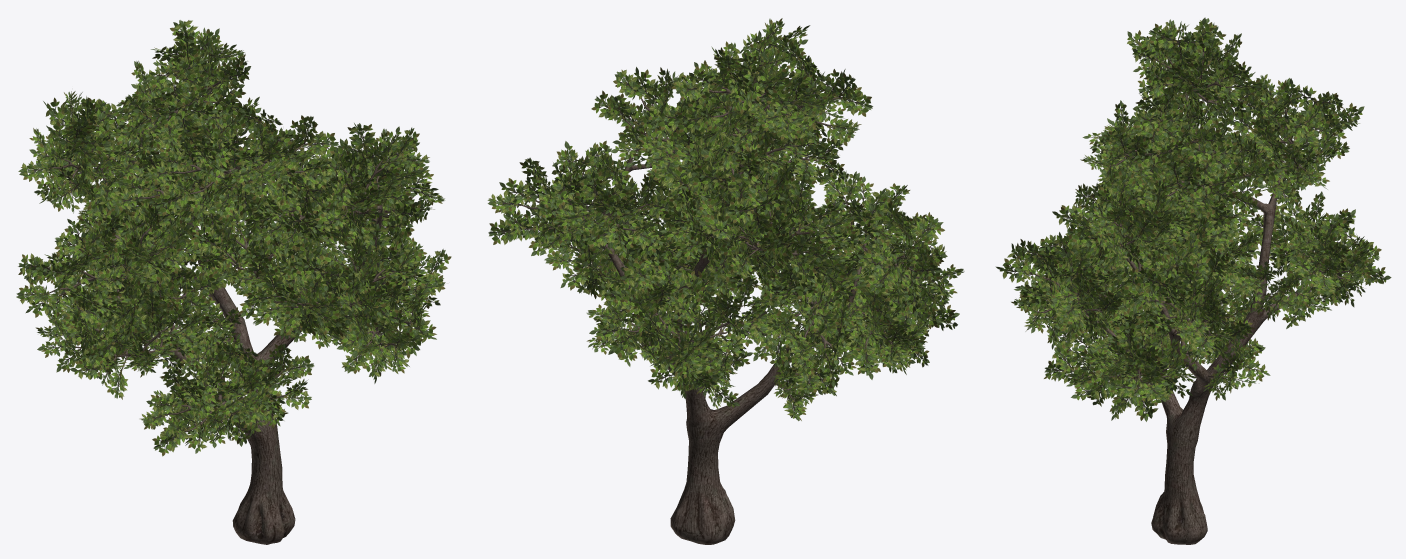
Rendered from tree.glb.
3 views of the same model, side by side, from view 1: azimuth 30°, elevation 25°; view 2: azimuth 150°, elevation 25°; view 3: azimuth 270°, elevation 25° (orthographic). The views are drawn at different scales.
Visible parts, largest first — view 1: crown merged, trunk_low, br_low; view 2: crown merged, trunk_low, br_low; view 3: crown merged, trunk_low, br_low.
Part boxes in pixels (x1,y1,x2,y2): crown merged: (16,20,451,456); trunk_low: (91,109,382,544); br_low: (47,64,414,432); crown merged: (487,18,964,420); trunk_low: (594,97,869,544); br_low: (521,54,932,400); crown merged: (995,17,1391,421); trunk_low: (1068,89,1309,544); br_low: (1031,50,1349,383).
Size of the model in its own units: 14.35 by 16.05 by 11.72.
Materials: 2 (2 with a texture image).
